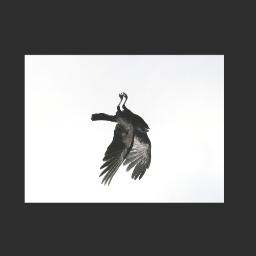Crow: (90, 90, 153, 187)
